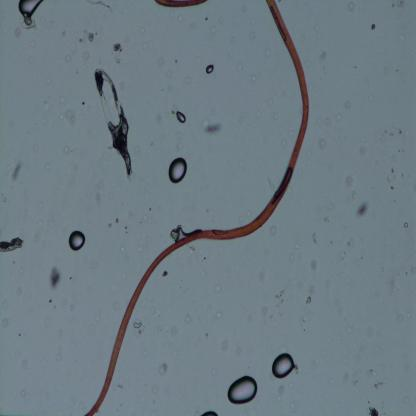Air bubble: (227, 371, 259, 405), (272, 349, 295, 380), (168, 157, 188, 184), (18, 1, 44, 20), (68, 228, 88, 251), (169, 228, 185, 242), (175, 108, 188, 125), (204, 61, 215, 75)
Background material: (275, 280, 287, 318), (204, 119, 224, 138), (49, 264, 62, 291), (79, 44, 91, 70), (353, 199, 370, 217), (64, 108, 77, 130), (111, 42, 123, 65), (13, 158, 23, 183), (342, 374, 359, 388), (133, 318, 144, 338), (264, 173, 275, 191), (91, 191, 104, 206), (364, 403, 380, 415), (310, 226, 320, 245), (44, 98, 53, 119), (214, 305, 225, 322), (340, 99, 355, 111), (156, 362, 171, 374), (139, 36, 152, 49), (177, 130, 185, 151), (53, 348, 65, 362), (209, 279, 221, 293), (315, 23, 323, 43), (263, 307, 275, 320), (0, 312, 10, 327), (389, 0, 404, 10), (276, 386, 284, 404), (382, 130, 395, 141), (167, 324, 178, 337), (306, 259, 319, 270), (319, 138, 330, 151), (63, 144, 73, 158), (373, 380, 387, 390), (240, 110, 248, 127), (175, 14, 186, 26), (234, 62, 246, 73), (338, 251, 349, 263), (206, 25, 217, 36), (12, 26, 22, 38), (367, 20, 377, 32), (86, 30, 94, 45), (185, 244, 197, 254), (166, 68, 175, 81), (112, 295, 120, 309), (247, 29, 255, 43), (286, 126, 296, 137), (220, 341, 230, 352), (160, 270, 171, 280), (325, 115, 333, 128), (346, 235, 354, 248), (264, 48, 274, 58), (18, 388, 28, 398), (268, 112, 278, 122), (143, 215, 152, 226), (394, 144, 406, 152), (366, 370, 376, 379), (43, 161, 52, 171), (183, 313, 192, 323), (250, 72, 258, 83), (113, 214, 121, 225), (156, 56, 164, 67), (0, 194, 8, 205), (239, 160, 245, 174), (60, 298, 67, 310), (320, 49, 327, 61), (31, 232, 39, 242), (287, 252, 295, 262), (269, 226, 276, 237), (66, 52, 72, 64), (244, 209, 252, 218), (347, 4, 356, 12), (366, 94, 374, 103), (61, 94, 68, 104), (159, 133, 166, 143), (16, 328, 22, 339), (203, 331, 209, 342), (171, 105, 177, 116), (347, 176, 353, 187), (158, 113, 163, 126), (28, 40, 36, 48), (117, 382, 125, 390), (305, 297, 313, 305), (254, 110, 262, 118), (280, 137, 287, 146), (404, 220, 410, 230), (168, 82, 174, 91), (397, 127, 403, 136), (324, 214, 330, 223), (386, 174, 391, 184), (247, 124, 252, 134), (69, 302, 75, 310), (139, 26, 145, 34), (146, 176, 152, 184), (120, 246, 126, 254), (402, 74, 406, 85), (124, 223, 128, 234), (76, 37, 82, 44), (336, 112, 342, 119), (219, 16, 224, 24), (390, 166, 394, 175), (19, 268, 24, 275), (108, 221, 113, 228), (412, 266, 416, 274), (3, 300, 8, 306), (147, 206, 152, 212), (60, 32, 65, 38), (48, 299, 53, 304), (360, 256, 366, 260), (391, 186, 395, 192), (174, 59, 178, 64), (204, 16, 208, 21), (69, 275, 72, 281)
Cellulose filter fibre: (91, 68, 135, 180), (0, 234, 26, 255), (86, 0, 115, 13)
Microfibre: (84, 1, 310, 415), (152, 0, 209, 13)
